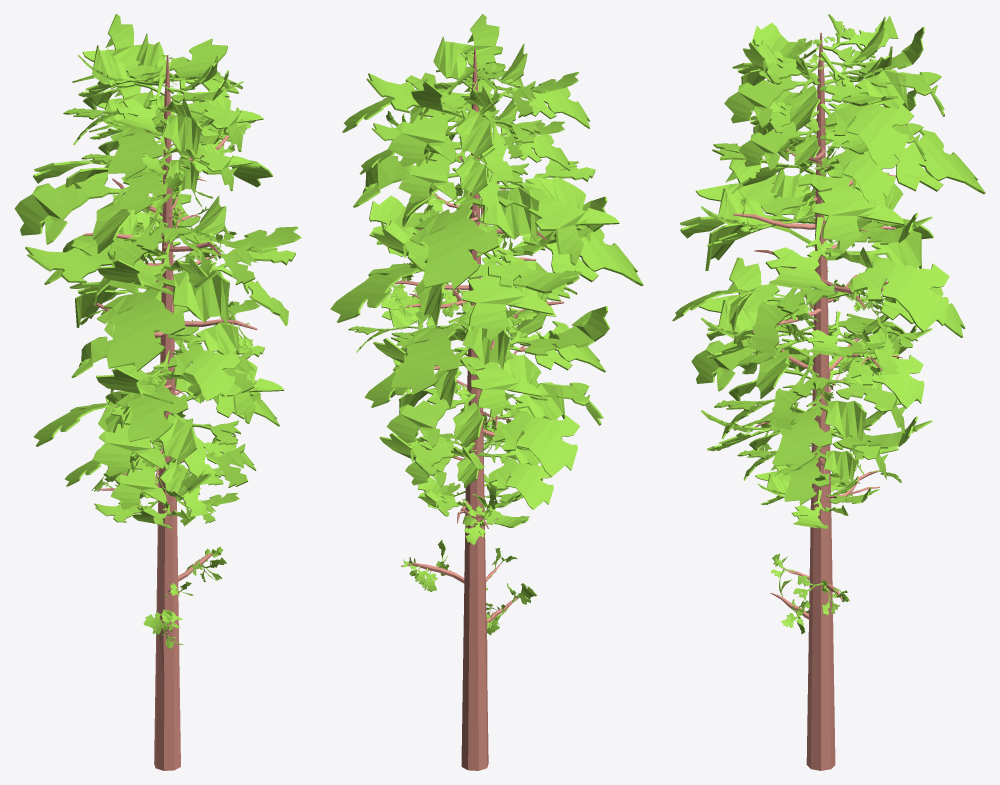
File: Drzewo.fbx
The picture shows the model from 3 angles, left to right: view 1: azimuth 30°, elevation 25°; view 2: azimuth 150°, elevation 25°; view 3: azimuth 270°, elevation 25°; orthographic projection. The views are drawn at different scales.
Visible parts, largest first — view 1: Drzewo_LOD0; view 2: Drzewo_LOD0; view 3: Drzewo_LOD0.
Boxes of the visible parts, box(x1,y1,x2,y2) form: Drzewo_LOD0: box(14, 14, 301, 770); Drzewo_LOD0: box(330, 14, 643, 770); Drzewo_LOD0: box(672, 14, 985, 770).
Size of what is drawn, in the model's own units: 265 by 728 by 281.
